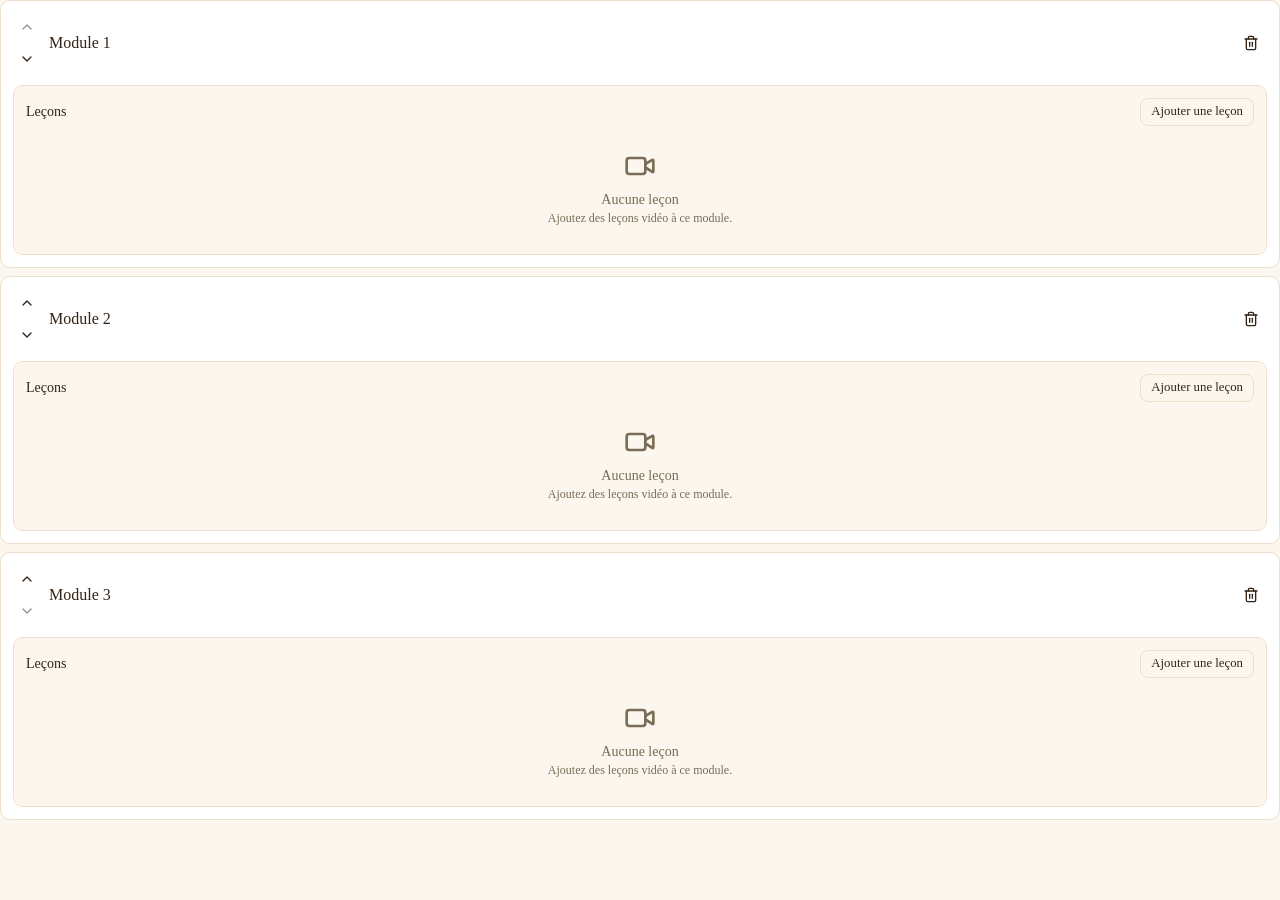
Test case: Module UI Integration › ModuleList › should allow renaming a module
# Click on module title to edit
Click the button "Module 1". click: [80, 42]
box: x1=49 y1=31 x2=1227 y2=55
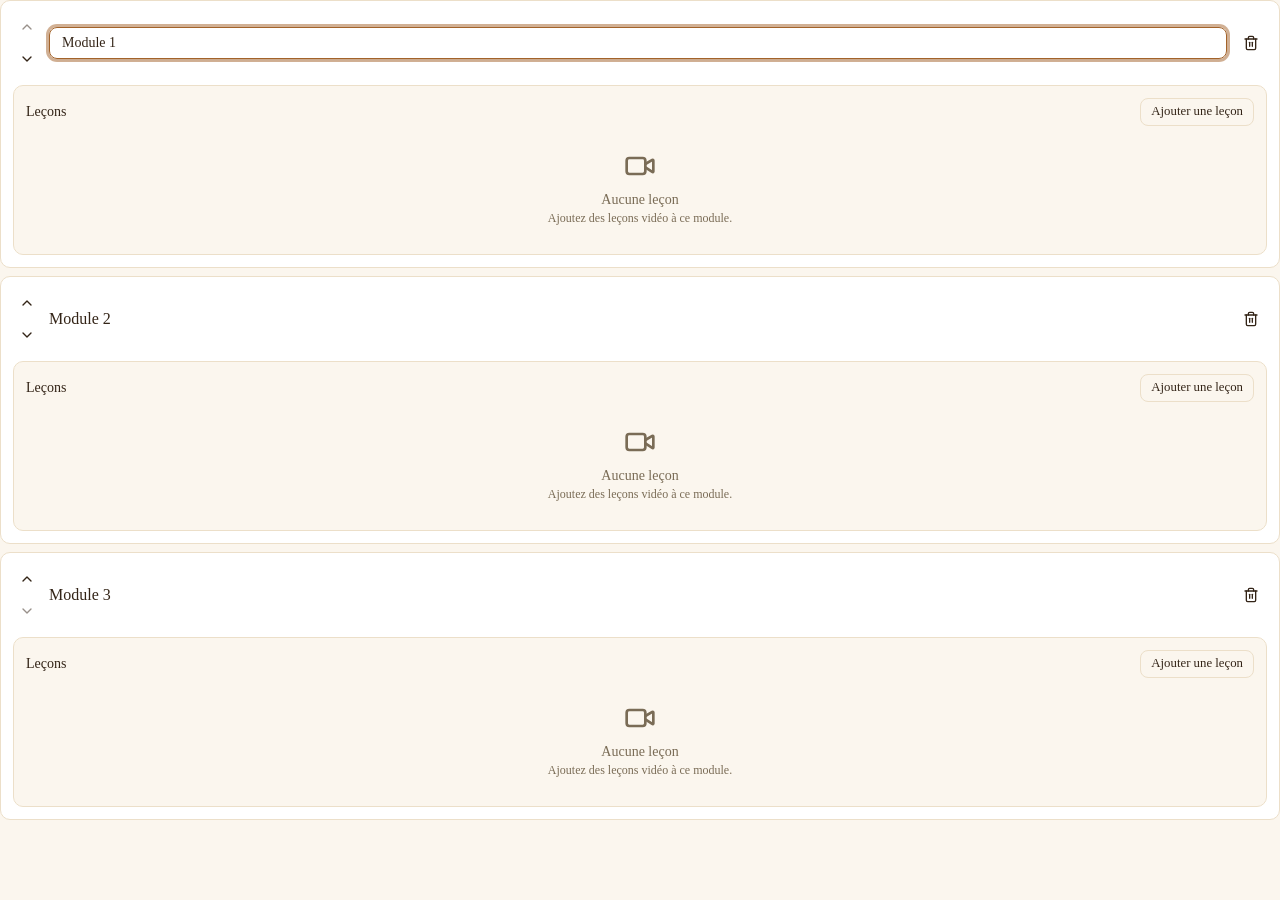
# Find the input and change value
Replace the text in the field showing "Module 1" with "Updated Module 1". click: [638, 43]
box: x1=49 y1=27 x2=1227 y2=59
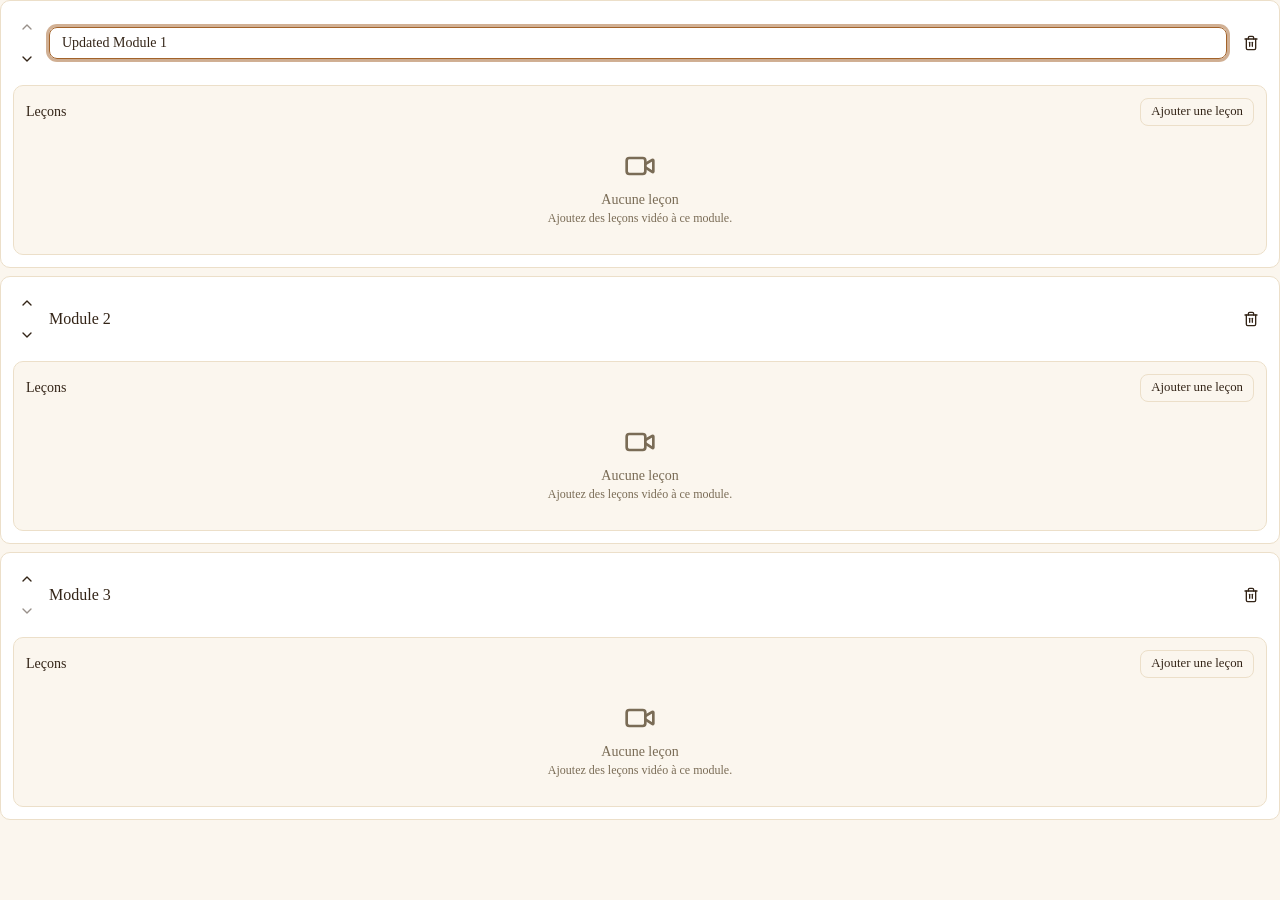
# Blur to save
Leave the field showing "Module 1", box x1=49 y1=27 x2=1227 y2=59
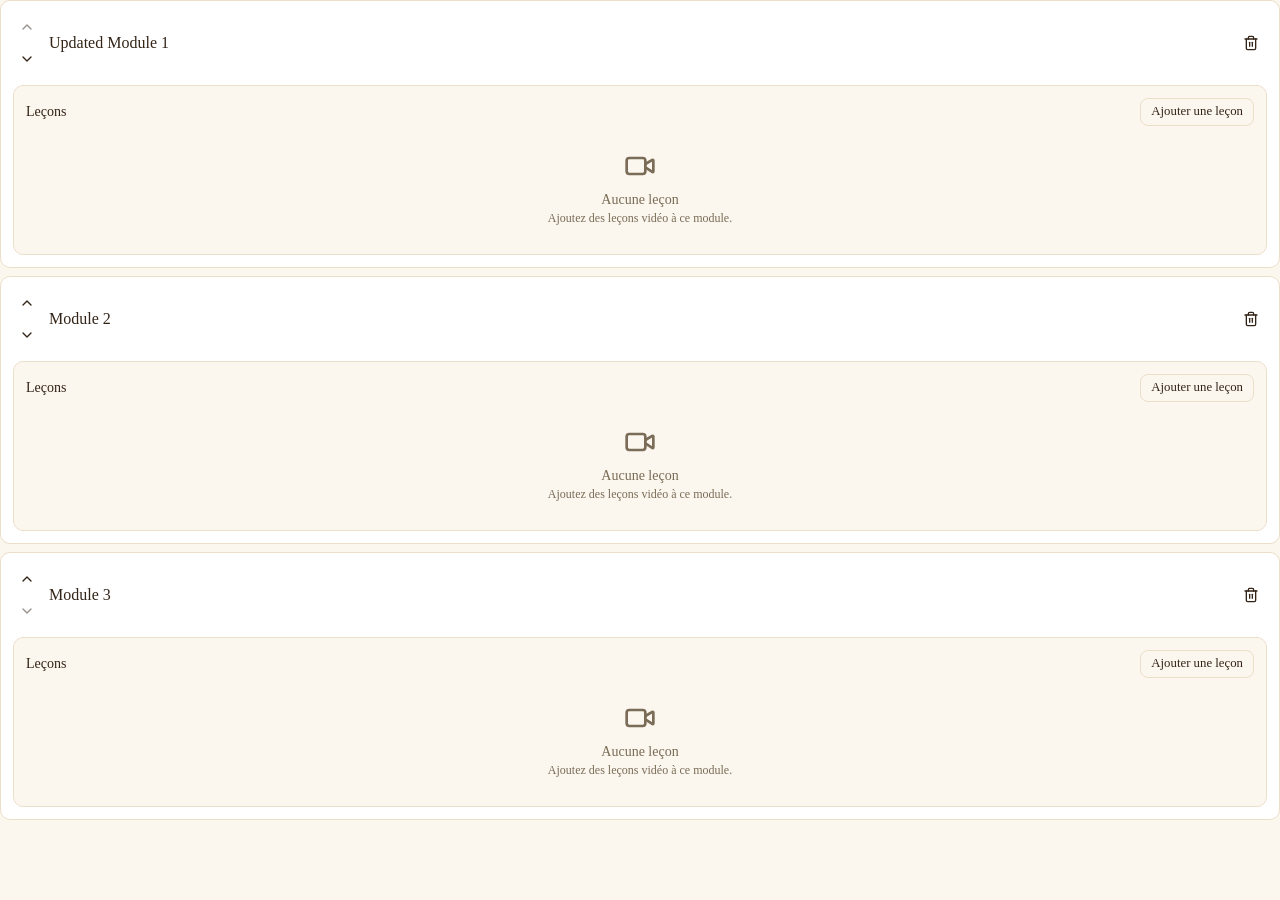
Now the button "Updated Module 1" is shown, box x1=49 y1=31 x2=1227 y2=55
